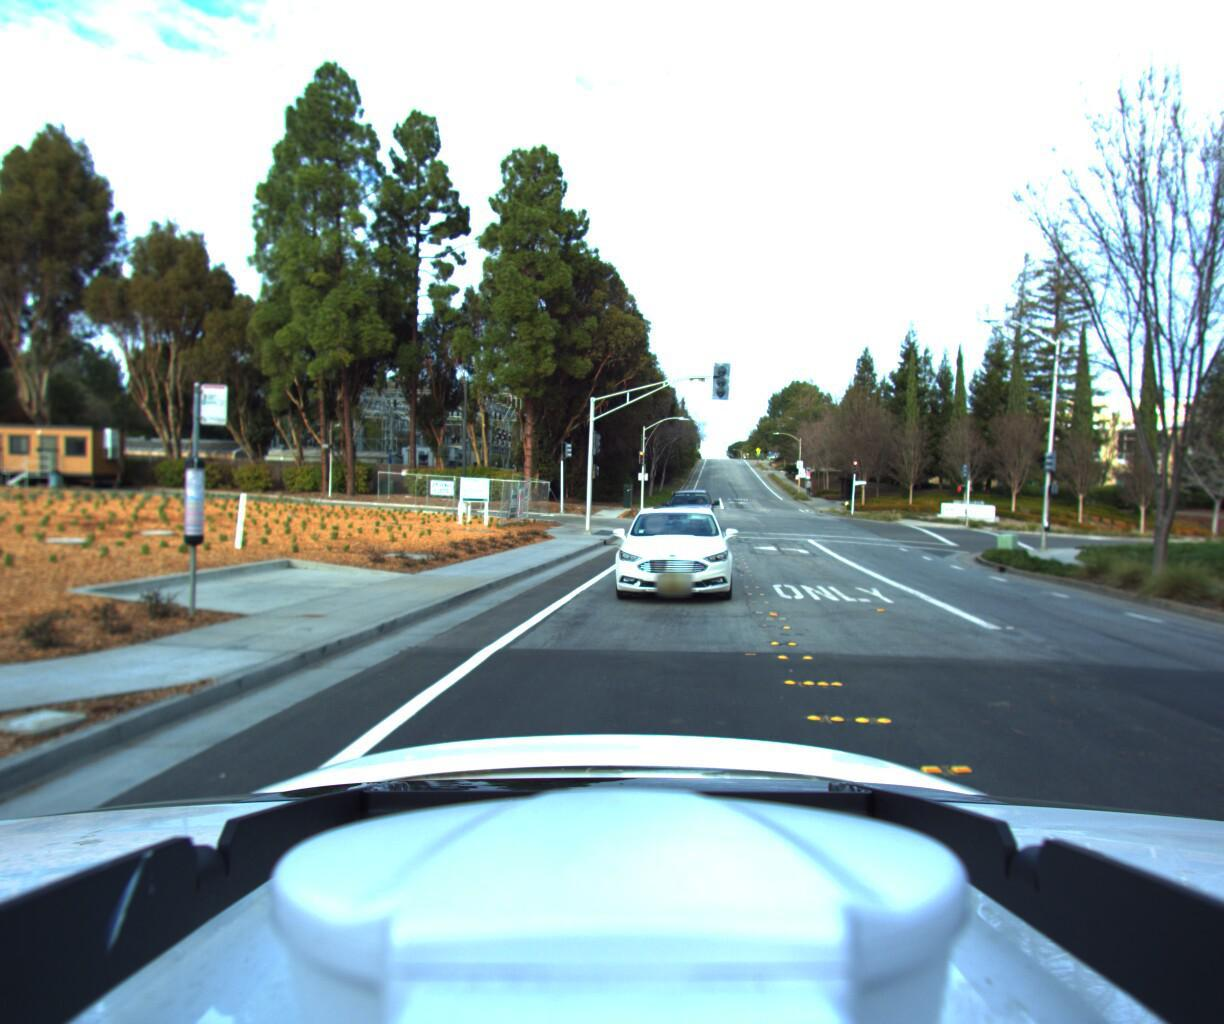car: (593, 499, 739, 622), (659, 482, 716, 535)
